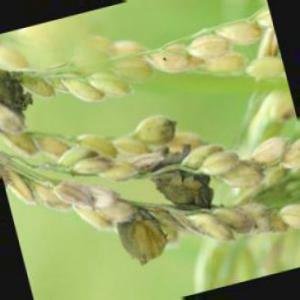Leaf_Scald: (155, 157, 217, 204), (120, 208, 157, 267), (0, 68, 38, 118)
